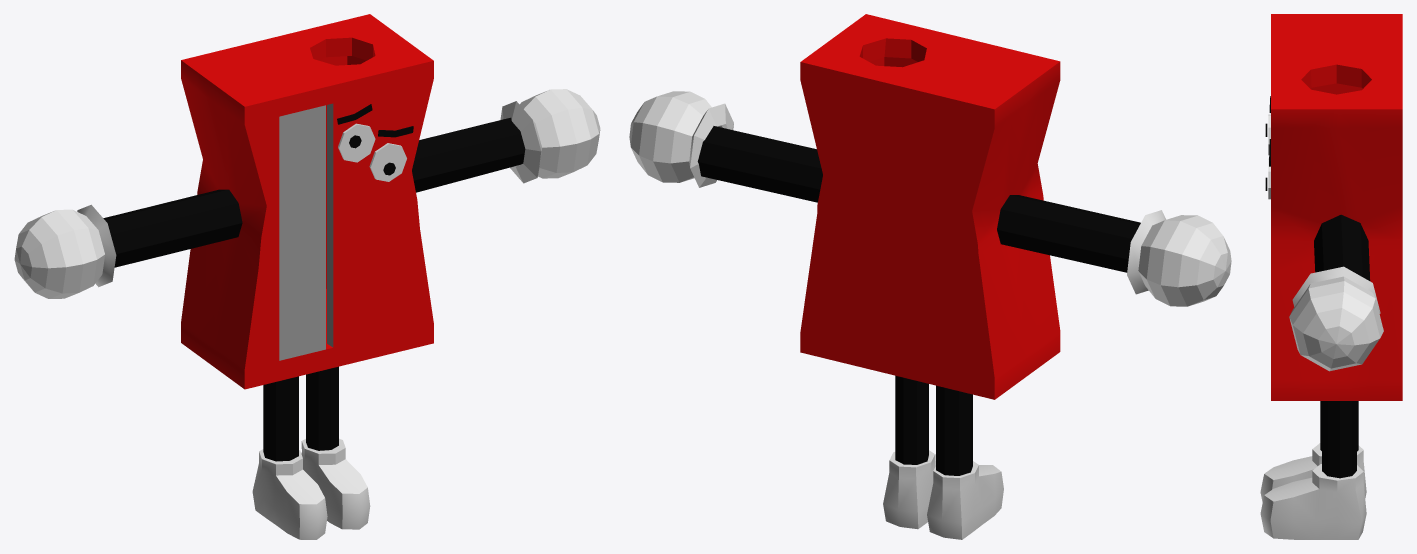
File: Pencil Sharpener character.fbx
3 views of the same model, side by side, from view 1: azimuth 30°, elevation 25°; view 2: azimuth 150°, elevation 25°; view 3: azimuth 270°, elevation 25° (orthographic). The views are drawn at different scales.
Parts seen in each view (by area): view 1: polySurface1; view 2: polySurface1; view 3: polySurface1.
Part boxes in pixels (left/top/right/bottom): polySurface1: left=14, top=14, right=600, bottom=539; polySurface1: left=629, top=14, right=1231, bottom=539; polySurface1: left=1260, top=14, right=1402, bottom=539.
Bounding box in the file's own units: 42.9 × 31.93 × 8.9.
